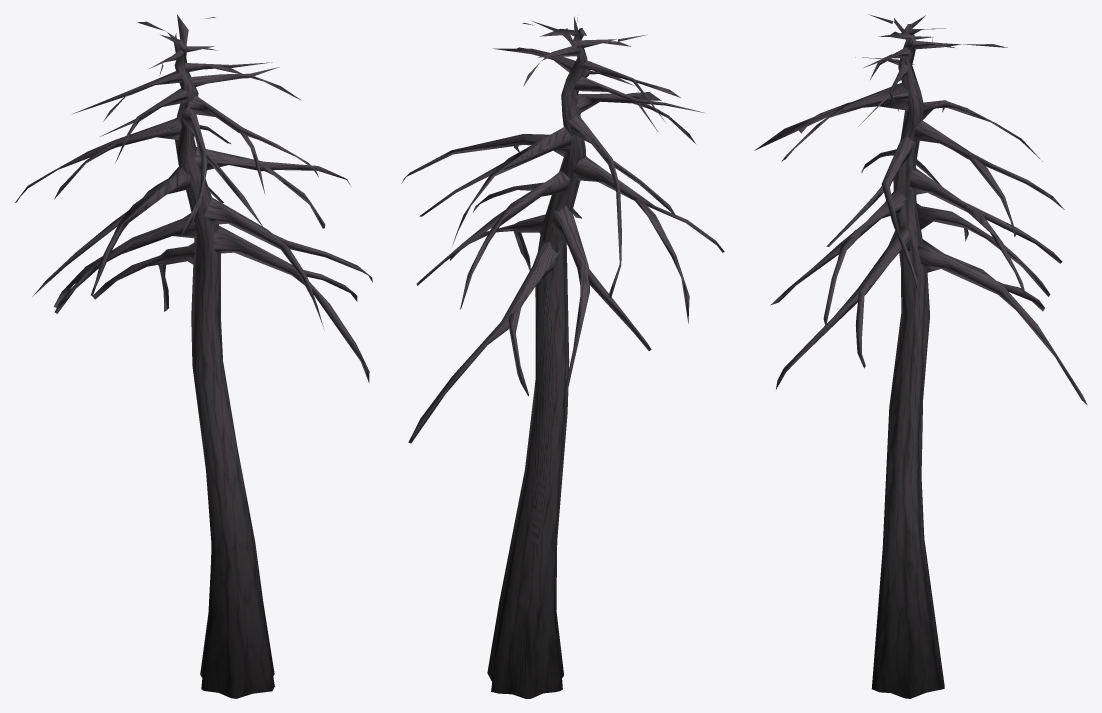
The model's file is DeadTree_3.medium.gltf.
The picture shows the model from 3 angles, left to right: view 1: azimuth 30°, elevation 25°; view 2: azimuth 150°, elevation 25°; view 3: azimuth 270°, elevation 25°; orthographic projection. The views are drawn at different scales.
Visible parts, largest first — view 1: DeadTree_3; view 2: DeadTree_3; view 3: DeadTree_3.
Boxes of the visible parts, bbox=[...] form: DeadTree_3: bbox=[15, 14, 372, 698]; DeadTree_3: bbox=[401, 16, 724, 698]; DeadTree_3: bbox=[754, 14, 1087, 698].
Bounding box in the file's own units: 6.33 × 13.24 × 6.31.
Materials: 1 (1 with a texture image).
